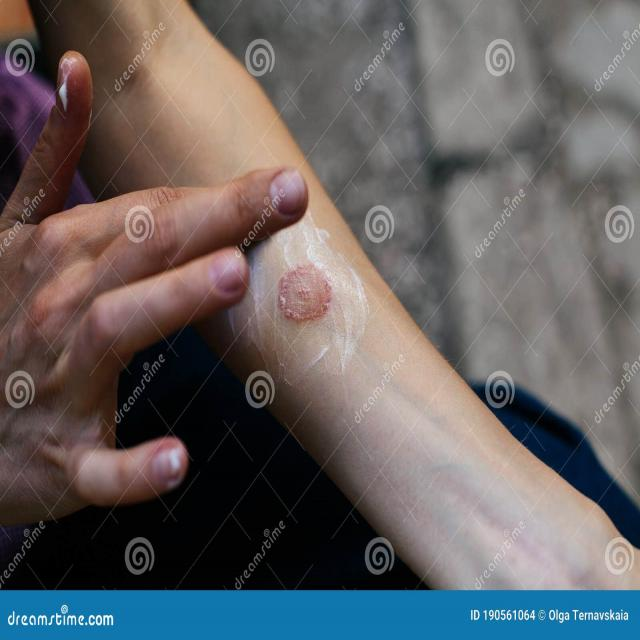tinea: (204, 194, 386, 356)
